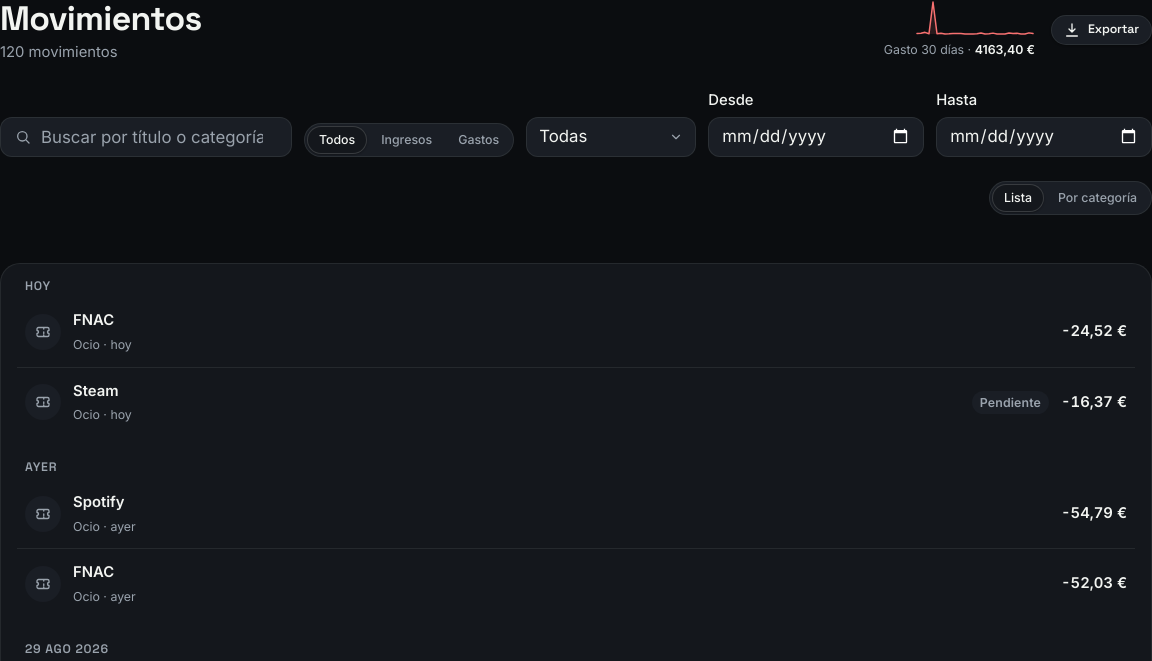
Test: TransactionsPage › debouncea la búsqueda, envía el parámetro search y actualiza la lista
The image size is (1152, 661).
Type "Nómina" into the search field with placeholder "Buscar por título o categoría…".
click(160, 137); type("Nómina")  # box top-left (41, 118), bottom-right (279, 156)
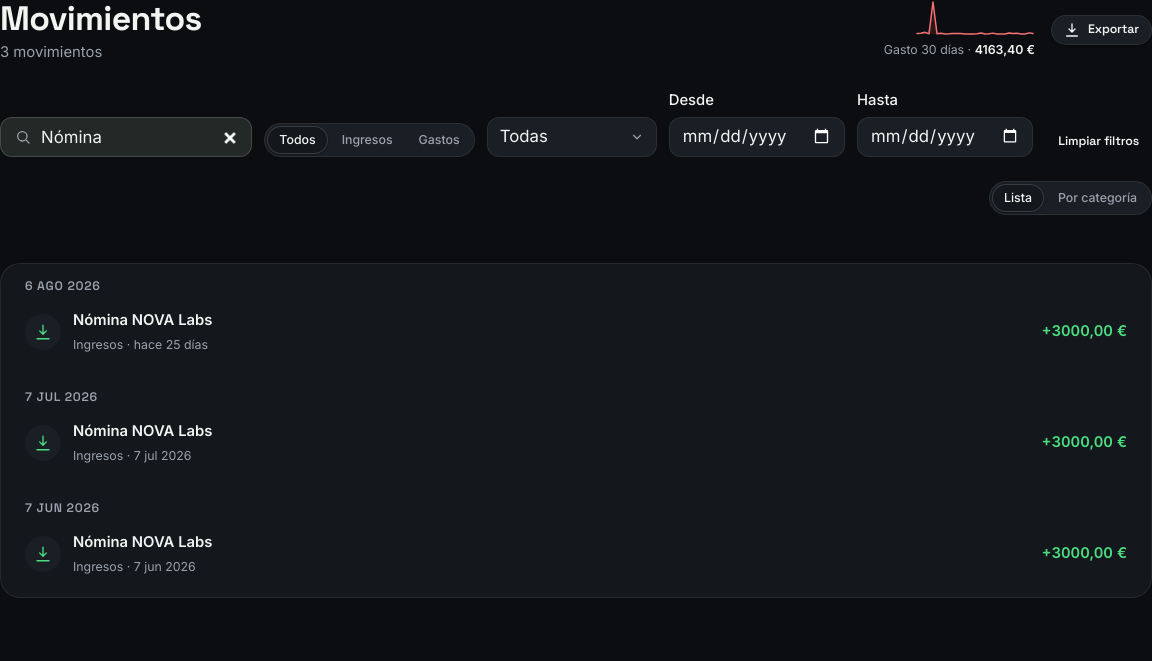
expect the text "3 movimientos" is shown: met, box top-left (0, 43), bottom-right (102, 61)
expect the text "Nómina NOVA Labs" is shown 3 times: met, box top-left (73, 311), bottom-right (212, 329); top-left (73, 422), bottom-right (212, 440); top-left (73, 533), bottom-right (212, 551)
